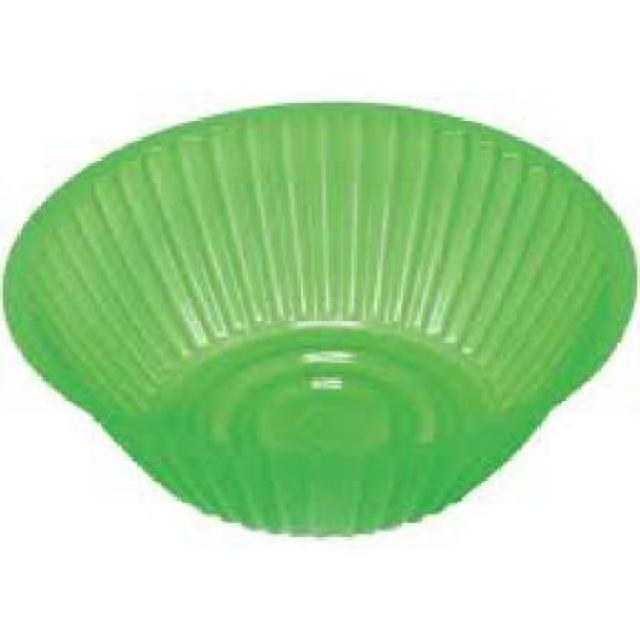GLASS: (0, 97, 637, 534)
